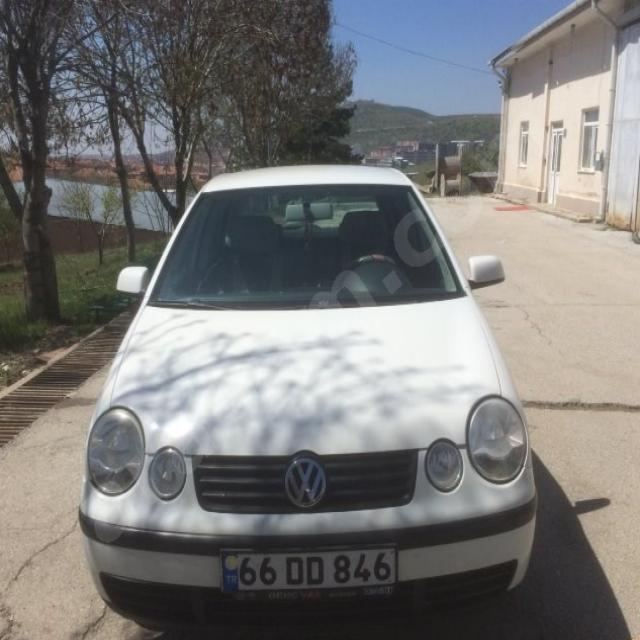license_plate: (222, 545, 398, 593)
